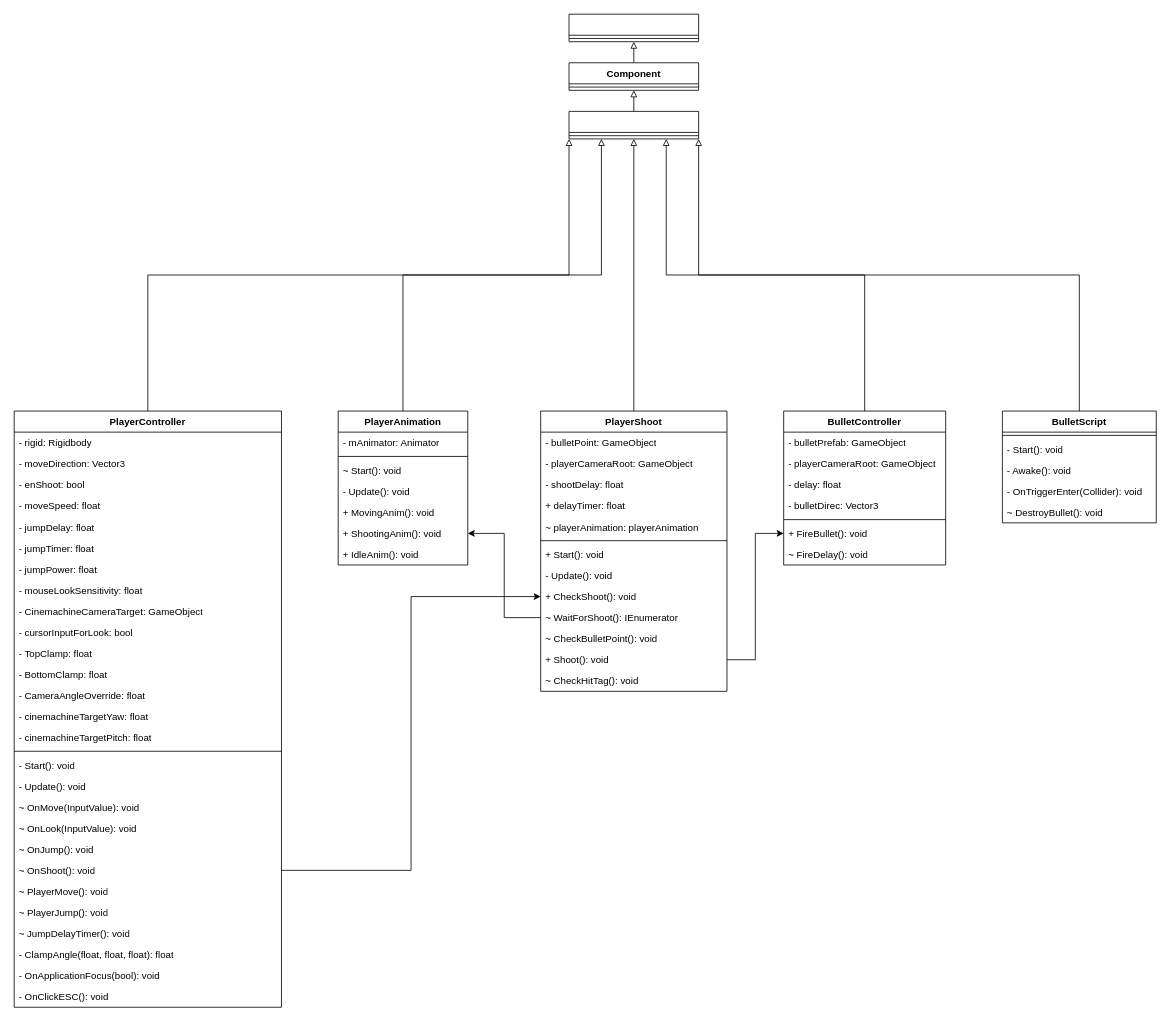
Some shapes in this 1170 by 1024 pixel diagram are drawn without their labels. Here are the shapes that lost their labels. From the top down, the centre of each, then its label:
the point at 633,27: Object
the point at 633,125: MonoBehavior
